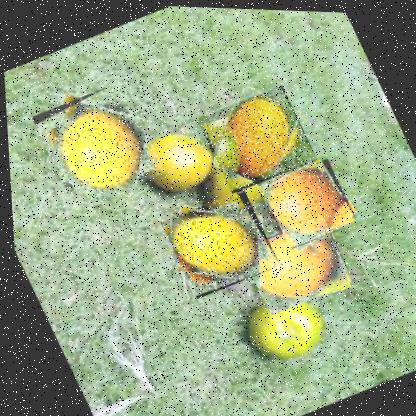orange: (26, 75, 166, 210), (154, 182, 278, 299), (191, 78, 317, 193), (232, 208, 352, 315), (254, 151, 356, 248)
